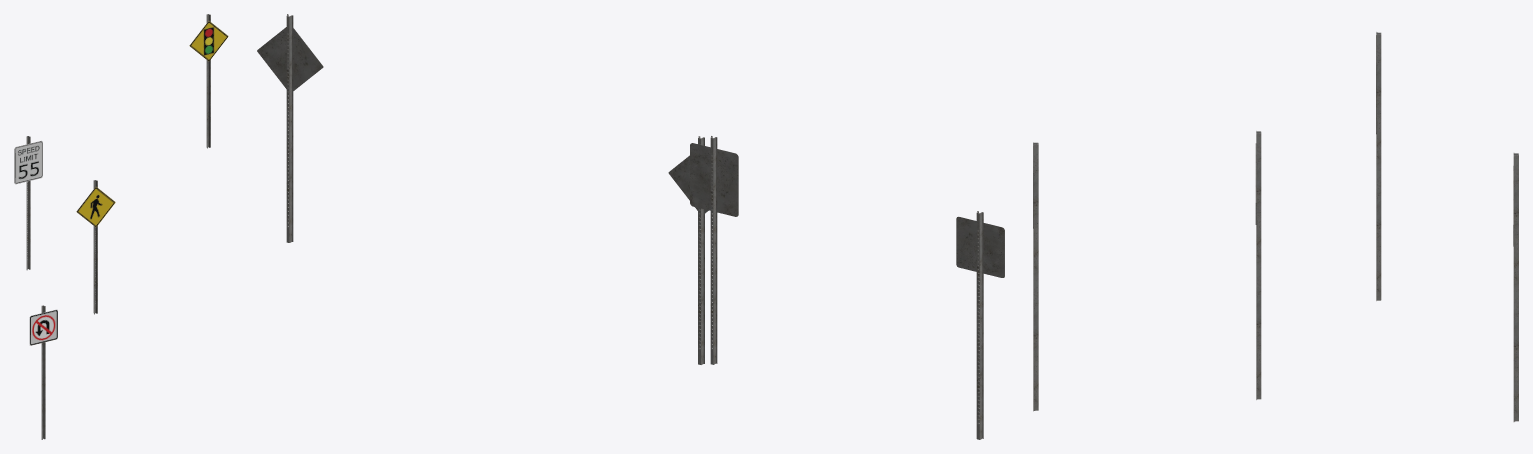
File: road-signs.glb
3 views of the same model, side by side, from view 1: azimuth 30°, elevation 25°; view 2: azimuth 150°, elevation 25°; view 3: azimuth 270°, elevation 25° (orthographic). The views are drawn at different scales.
Visible parts, largest first — view 1: SignSpeed_0, SignNoUturn_0, SignWalk_0, SignSignal_0; view 2: SignSpeed_0, SignNoUturn_0, SignSignal_0, SignWalk_0; view 3: SignWalk_0, SignNoUturn_0, SignSignal_0, SignSpeed_0.
Part boxes in pixels (left/top/right/bottom): SignSpeed_0: left=14, top=136, right=42, bottom=270; SignNoUturn_0: left=29, top=305, right=57, bottom=439; SignWalk_0: left=76, top=180, right=115, bottom=314; SignSignal_0: left=189, top=14, right=228, bottom=148; SignSpeed_0: left=690, top=136, right=738, bottom=364; SignNoUturn_0: left=956, top=211, right=1004, bottom=439; SignSignal_0: left=257, top=14, right=323, bottom=242; SignWalk_0: left=668, top=136, right=708, bottom=364; SignWalk_0: left=1255, top=131, right=1261, bottom=399; SignNoUturn_0: left=1033, top=142, right=1038, bottom=411; SignSignal_0: left=1513, top=153, right=1518, bottom=421; SignSpeed_0: left=1376, top=32, right=1381, bottom=300.
Bounding box in the file's own units: 28.52 × 22.8 × 18.81.
1 material, 1 textured.
